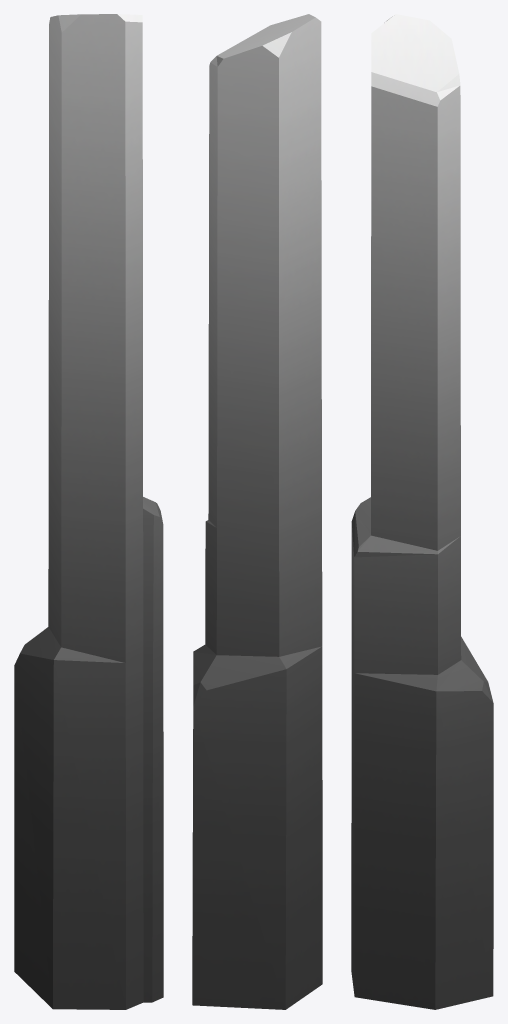
File: CrystalCube_E.fbx
3 renders of one model, left to right at view 1: azimuth 90°, elevation 25°; view 2: azimuth 150°, elevation 25°; view 3: azimuth 270°, elevation 25°, orthographic. The views are drawn at different scales.
Visible parts, largest first — view 1: CrystalCube_E; view 2: CrystalCube_E; view 3: CrystalCube_E.
Boxes of the visible parts, <box> form: CrystalCube_E: <box>14,14,163,1009</box>; CrystalCube_E: <box>192,14,322,1009</box>; CrystalCube_E: <box>351,14,493,1009</box>.
Size of the model in its own units: 60.09 by 531 by 72.14.
Materials: 1 (1 with a texture image).
